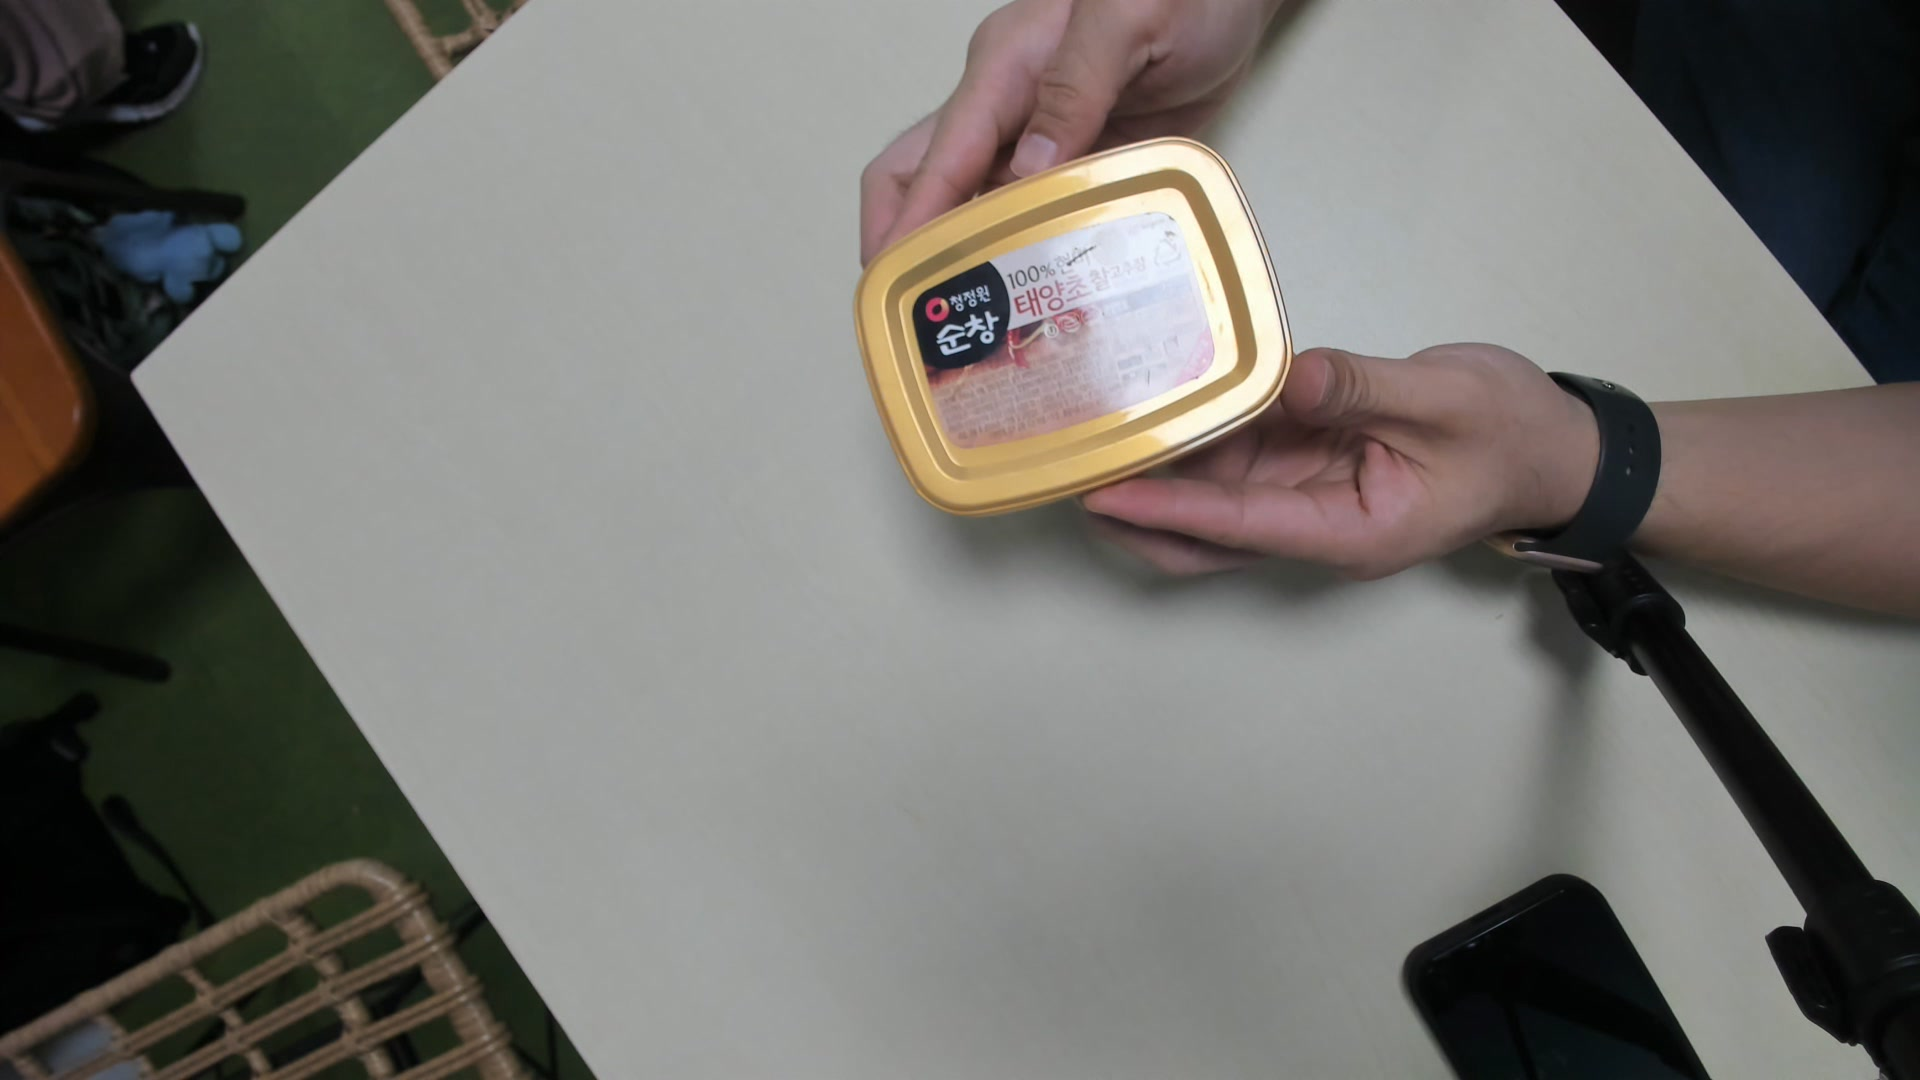OtherSauceDressing_200-299g_NonHalal_NonHealthy: (849, 137, 1288, 525)
